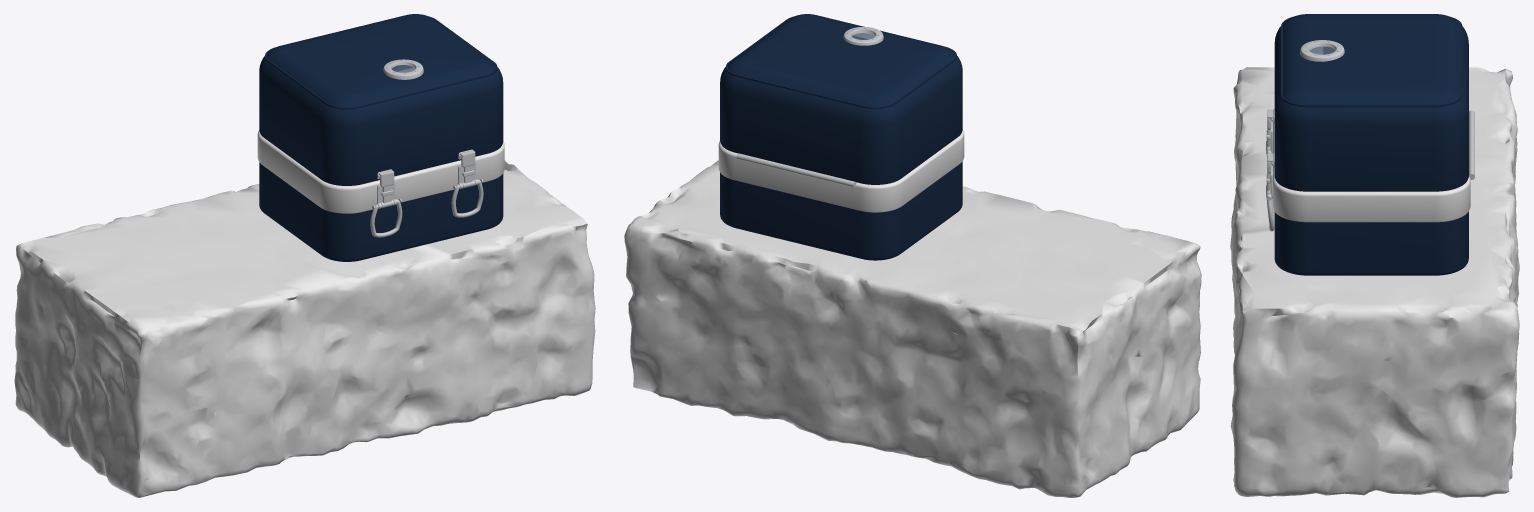
Rendered from ecrin.glb.
3 views of the same model, side by side, from view 1: azimuth 30°, elevation 25°; view 2: azimuth 150°, elevation 25°; view 3: azimuth 270°, elevation 25° (orthographic). The views are drawn at different scales.
Parts seen in each view (by area): view 1: plinth, lid_shell, shell, band, lid_hardware; view 2: plinth, lid_shell, shell, band, hinge; view 3: plinth, lid_shell, shell, band, lid_hardware, hinge.
Boxes of the visible parts, box(x1,y1,x2,y2) form: plinth: box(14, 160, 595, 497); lid_shell: box(259, 14, 503, 185); shell: box(259, 162, 503, 261); band: box(257, 130, 504, 213); lid_hardware: box(377, 59, 473, 179); plinth: box(624, 160, 1201, 497); lid_shell: box(720, 14, 962, 184); shell: box(720, 161, 962, 260); band: box(718, 129, 964, 212); hinge: box(736, 153, 856, 187); plinth: box(1230, 67, 1519, 497); lid_shell: box(1274, 14, 1468, 191); shell: box(1274, 211, 1468, 275); band: box(1273, 109, 1470, 222); lid_hardware: box(1270, 40, 1344, 167); hinge: box(1468, 110, 1474, 179).
Bounding box in the file's own units: 458 × 318 × 224.
